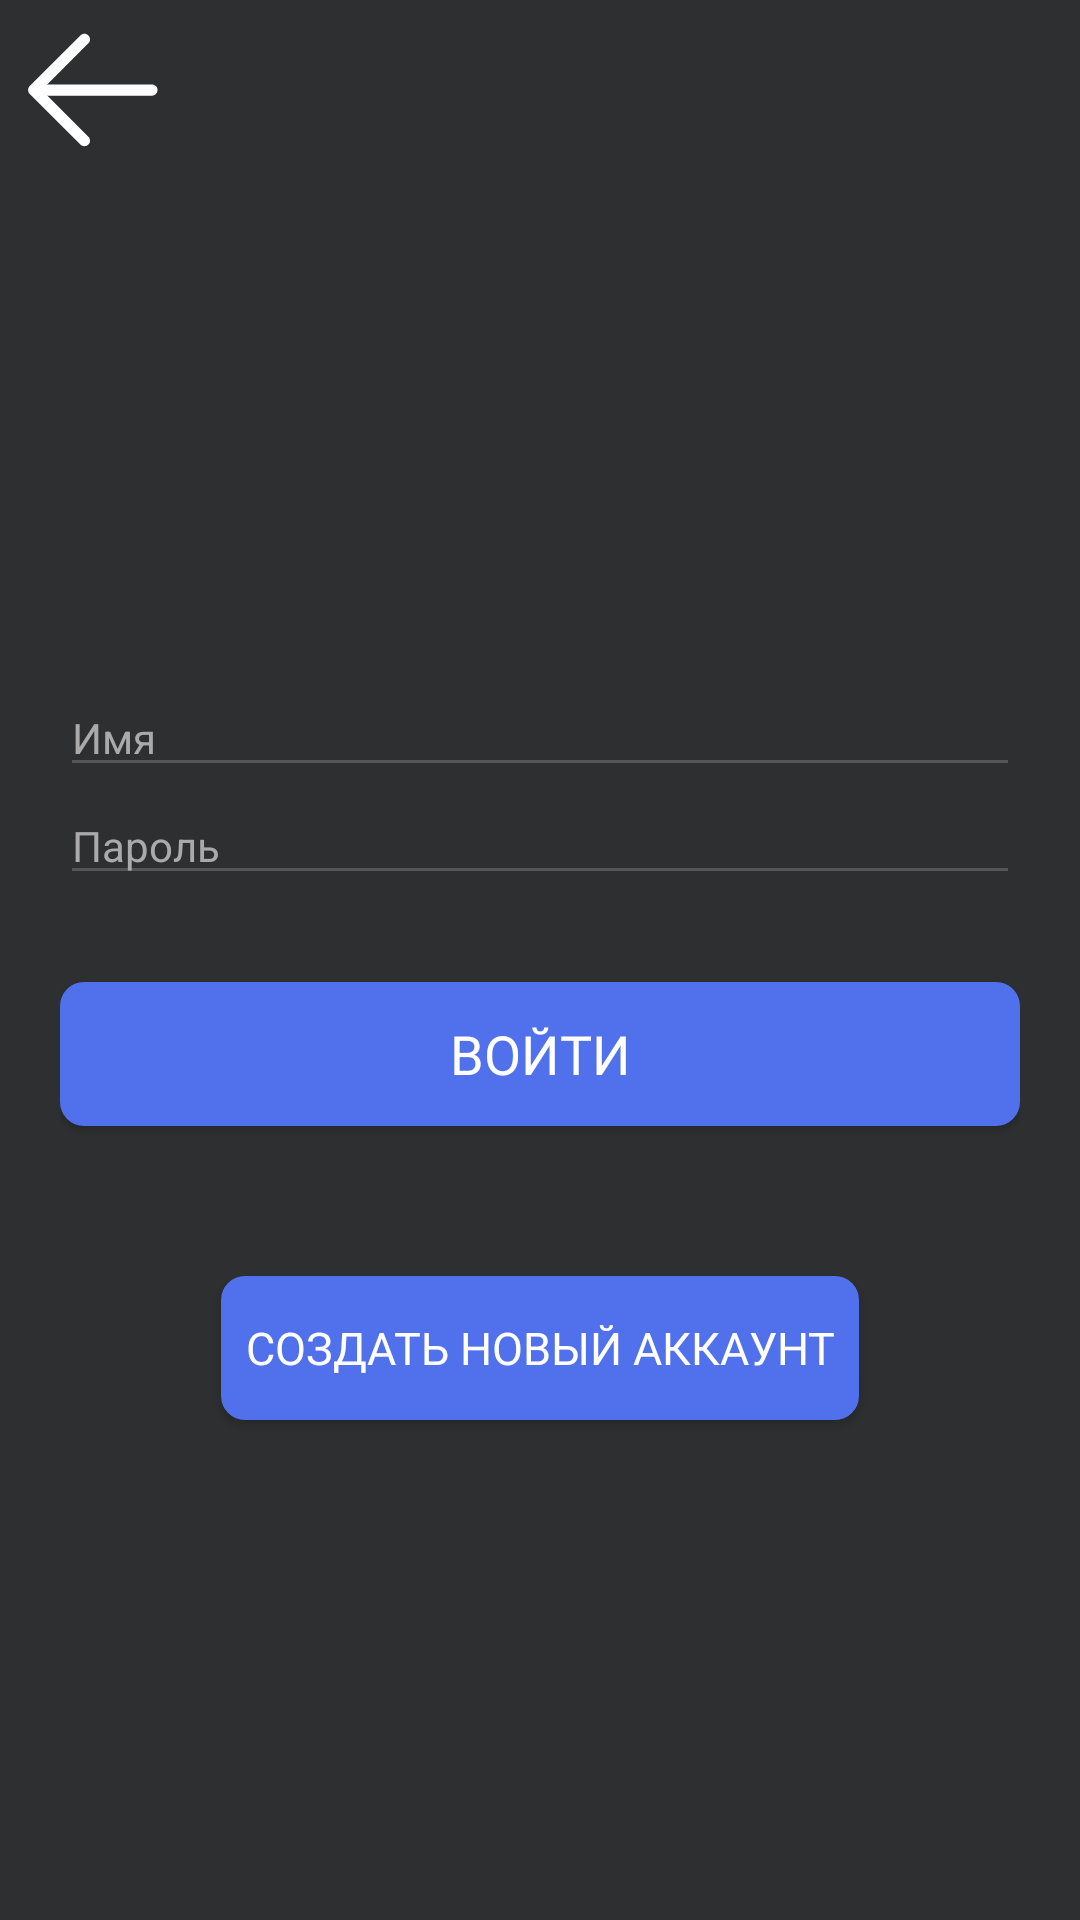

Screen size 1080w x 1920h. Icon name, then its box in pixels as [x1,y1,x2,y2]:
back: [28,33,158,147]
